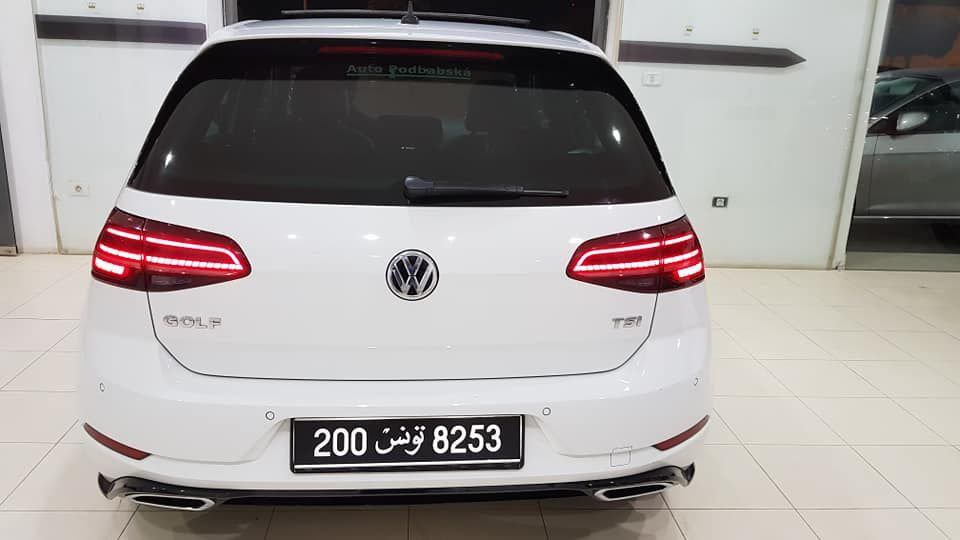LP: (291, 418, 524, 467)
